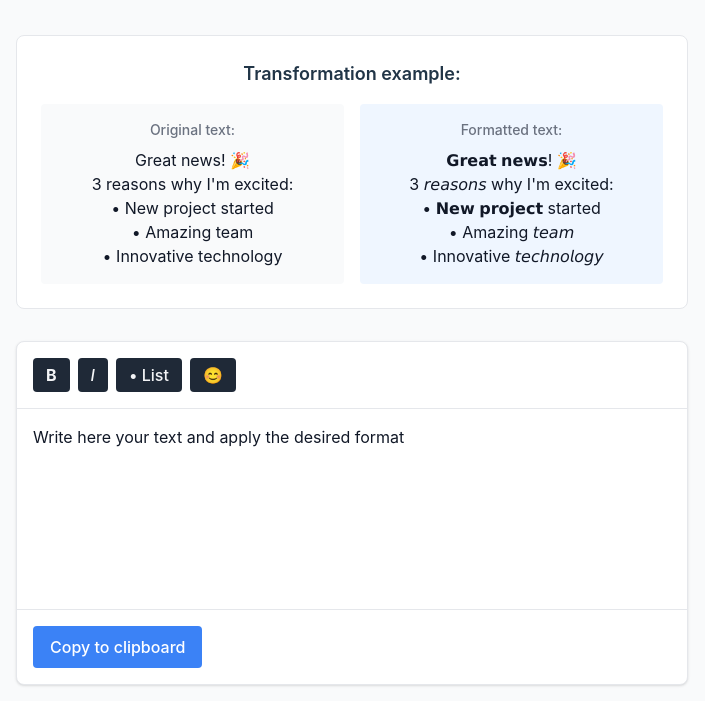
Test: Editor Component › handles error when clipboard is not available
(page scrolled)
Click the button "Copy to clipboard": point(118, 647) [33,626,202,668]
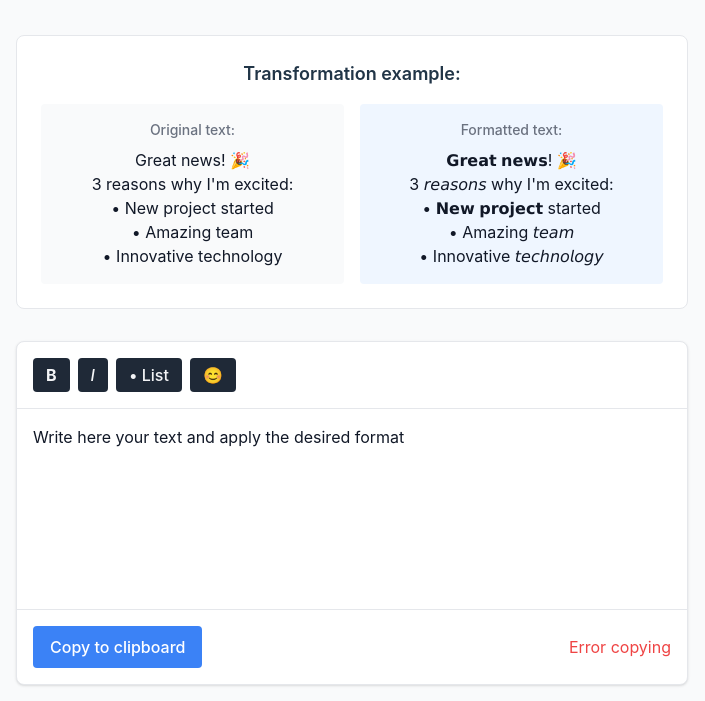
Now the text "Error copying" is shown, box [569,635,671,659]
